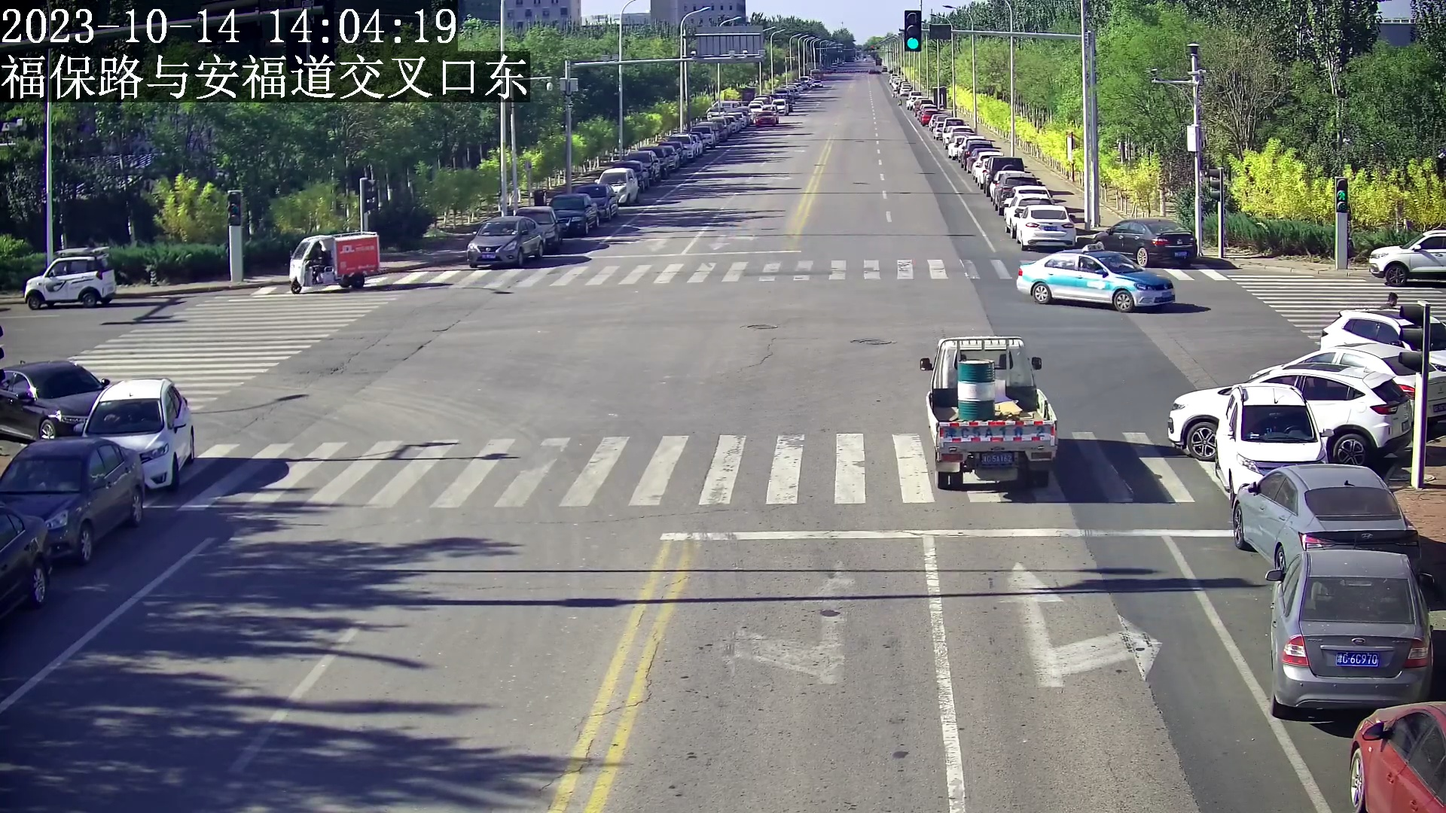vehicle: (1269, 547, 1429, 711), (1163, 364, 1415, 464), (917, 334, 1060, 486), (1230, 464, 1420, 571), (0, 436, 145, 559), (84, 379, 197, 487), (1217, 382, 1328, 489), (1350, 696, 1446, 811), (1017, 243, 1176, 310), (2, 358, 111, 443), (291, 229, 384, 288), (25, 250, 117, 306), (1086, 218, 1200, 263), (1368, 228, 1446, 282), (467, 216, 547, 263), (1014, 206, 1083, 247)
